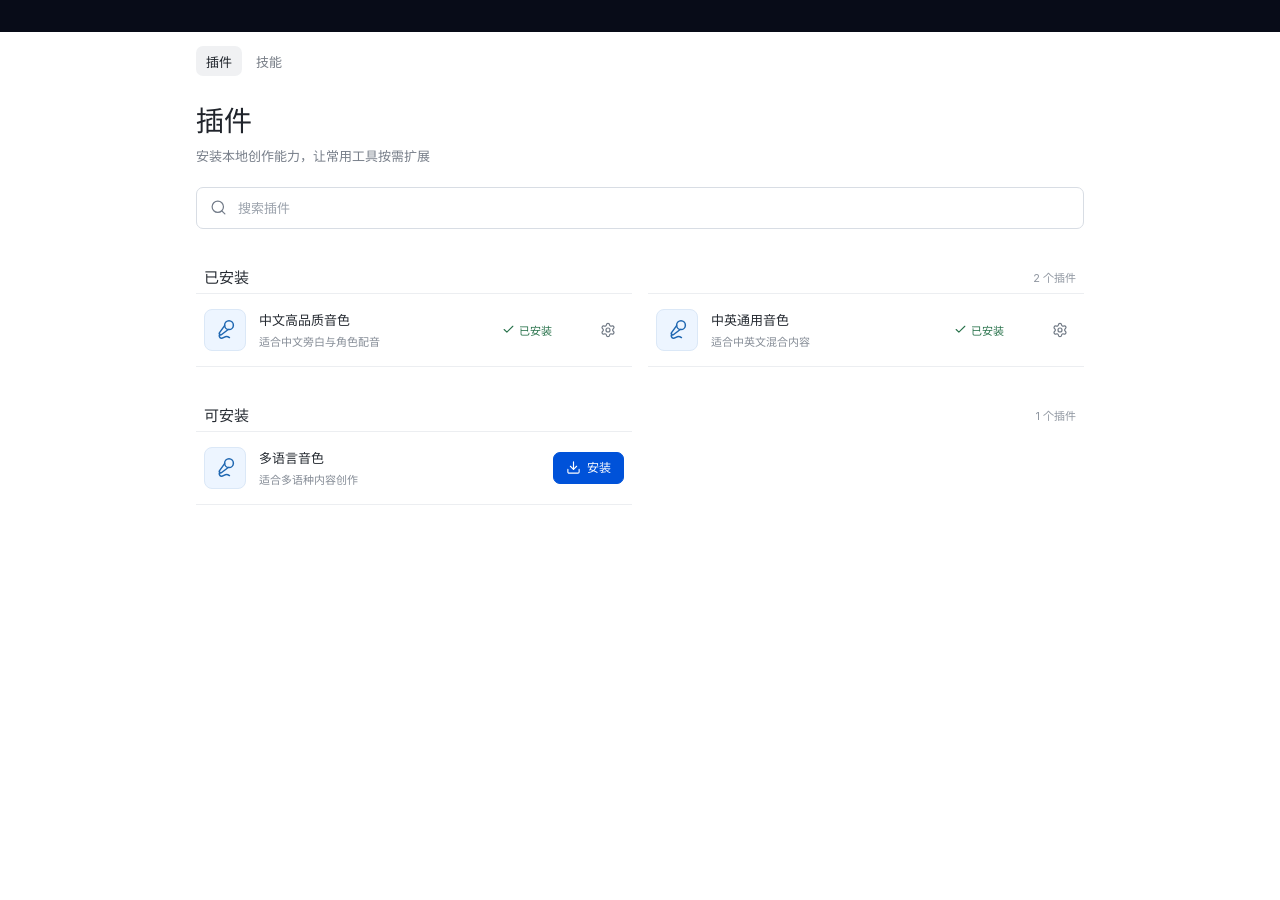
Scenario: PluginsView › removes only the plugin selected from its card menu
Click the button named "管理中英通用音色" at (1060, 330), box [1044,314,1076,346]
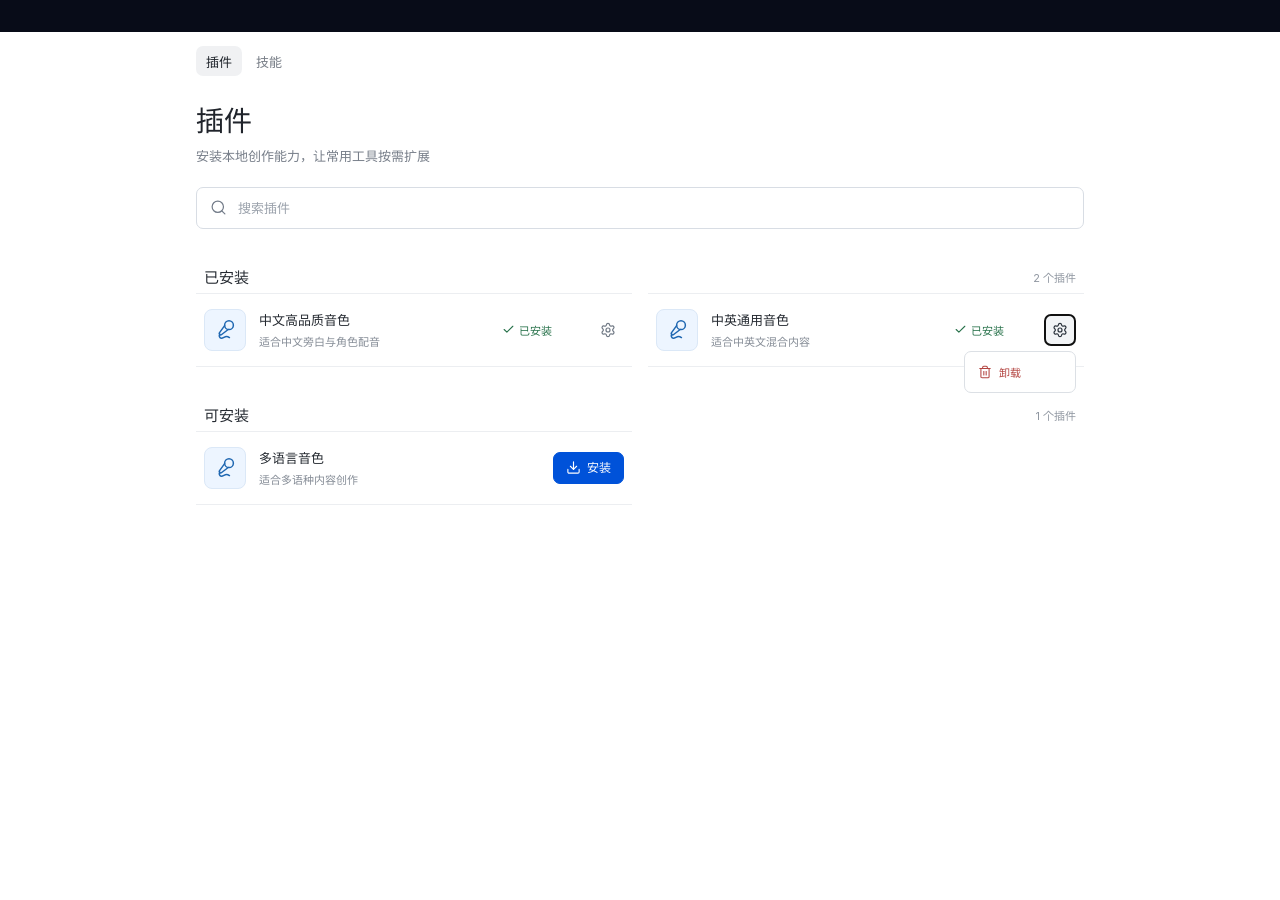
Click the menu item "卸载" at (1020, 372), box [970,357,1070,387]
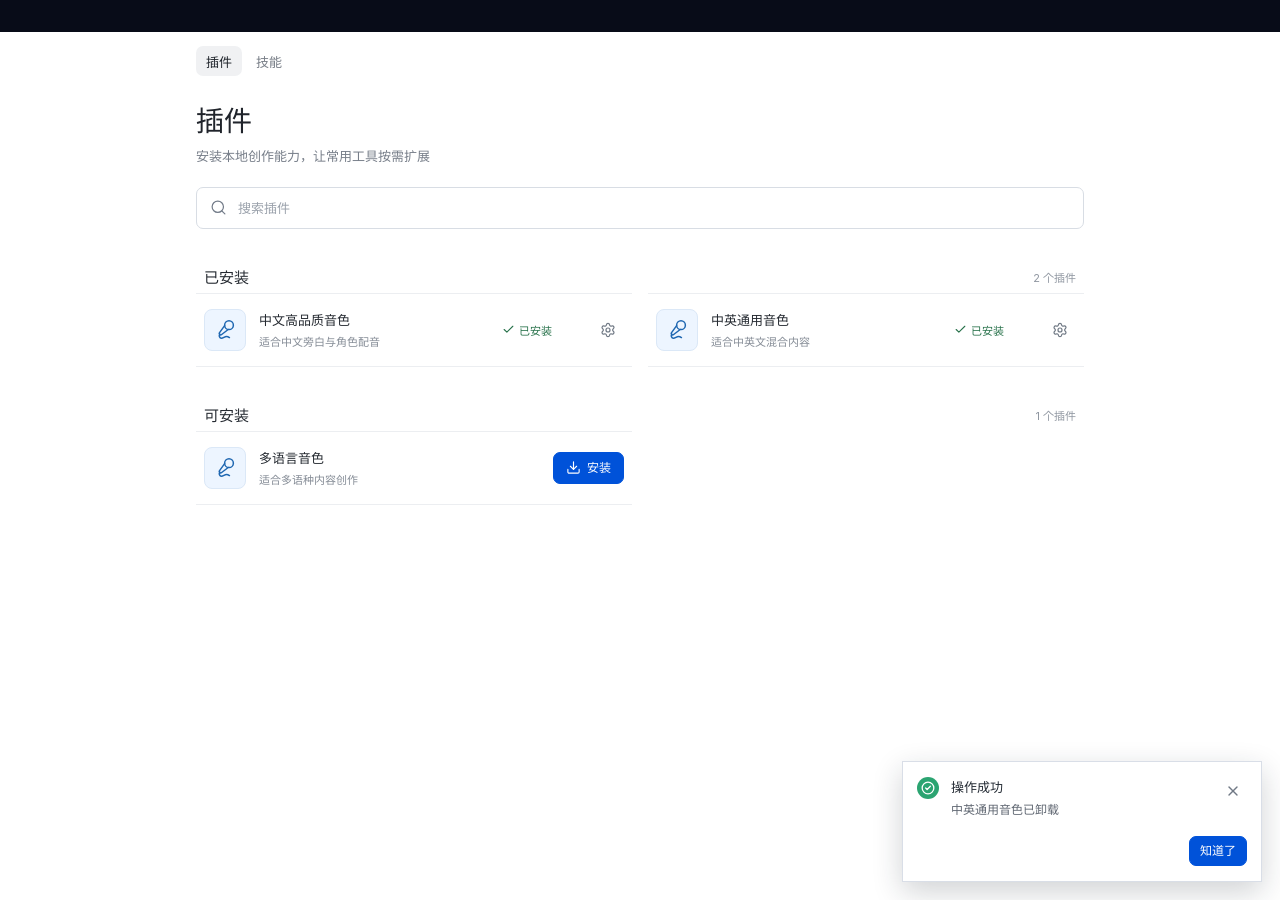
Expected: the text with class "ui-alert-notification__title" reads "操作成功", [951,779,1003,795]
Expected: the text with class "ui-alert-notification__message" reads "中英通用音色已卸载", [951,802,1059,817]
